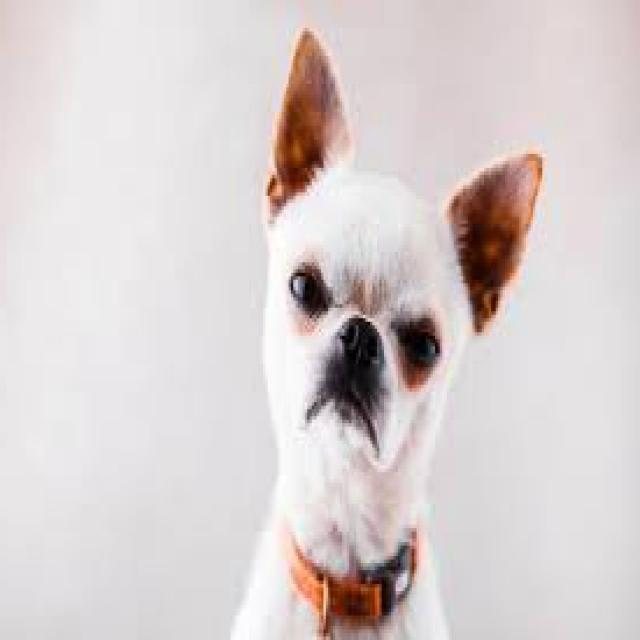dog: (233, 28, 545, 637)
